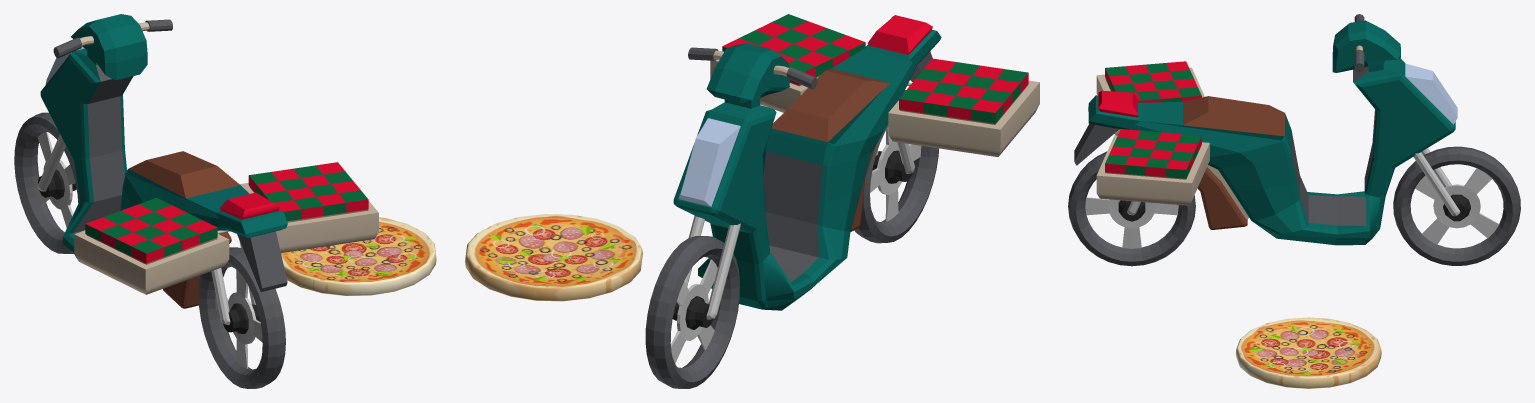
The model's file is Mec_geo (1).fbx.
The picture shows the model from 3 angles, left to right: view 1: azimuth 30°, elevation 25°; view 2: azimuth 150°, elevation 25°; view 3: azimuth 270°, elevation 25°; orthographic projection. The views are drawn at different scales.
Visible parts, largest first — view 1: Motor1_low, PizzaCollect1_low, Wheel1_low, PizzaBoxL, PizzaBoxR, Wheel2_low; view 2: Motor1_low, PizzaCollect1_low, Wheel2_low, PizzaBoxL, Wheel1_low, PizzaBoxR; view 3: Motor1_low, PizzaCollect1_low, Wheel2_low, Wheel1_low, PizzaBoxR, PizzaBoxL.
Part boxes in pixels (bbox=[...]): Motor1_low: bbox=[38, 14, 378, 333]; PizzaCollect1_low: bbox=[281, 217, 436, 295]; Wheel1_low: bbox=[198, 247, 285, 388]; PizzaBoxL: bbox=[85, 197, 217, 264]; PizzaBoxR: bbox=[248, 162, 368, 222]; Wheel2_low: bbox=[14, 112, 79, 253]; Motor1_low: bbox=[672, 15, 1039, 329]; PizzaCollect1_low: bbox=[465, 214, 642, 301]; Wheel2_low: bbox=[645, 236, 739, 388]; PizzaBoxL: bbox=[899, 58, 1028, 124]; Wheel1_low: bbox=[854, 90, 938, 243]; PizzaBoxR: bbox=[722, 14, 865, 86]; Motor1_low: bbox=[1074, 14, 1470, 245]; PizzaCollect1_low: bbox=[1236, 317, 1381, 388]; Wheel2_low: bbox=[1393, 146, 1520, 265]; Wheel1_low: bbox=[1068, 151, 1195, 266]; PizzaBoxR: bbox=[1105, 129, 1201, 179]; PizzaBoxL: bbox=[1105, 61, 1201, 102].
Bounding box in the file's own units: 29.53 × 18.49 × 31.4.
1 material, 1 textured.
